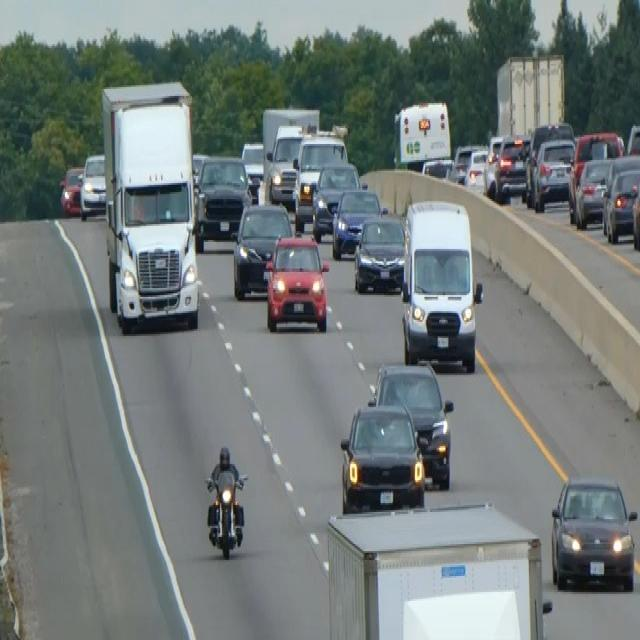car: (368, 359, 453, 489), (550, 475, 636, 592), (339, 400, 425, 512), (262, 233, 329, 332), (232, 201, 292, 299), (292, 132, 347, 230), (195, 153, 252, 245), (567, 130, 624, 220), (353, 212, 406, 294), (311, 160, 360, 240), (331, 185, 381, 259), (531, 135, 574, 212), (601, 156, 639, 242), (266, 123, 305, 205), (573, 154, 612, 228), (494, 133, 530, 201), (79, 151, 106, 221), (453, 142, 488, 190), (240, 139, 264, 199), (483, 134, 505, 196), (59, 164, 83, 215), (421, 156, 454, 180), (191, 150, 209, 188), (631, 169, 639, 249), (626, 121, 639, 156)
lorry: (100, 78, 200, 334)
minibus: (399, 198, 483, 372)
motorcycle: (203, 468, 248, 558)
